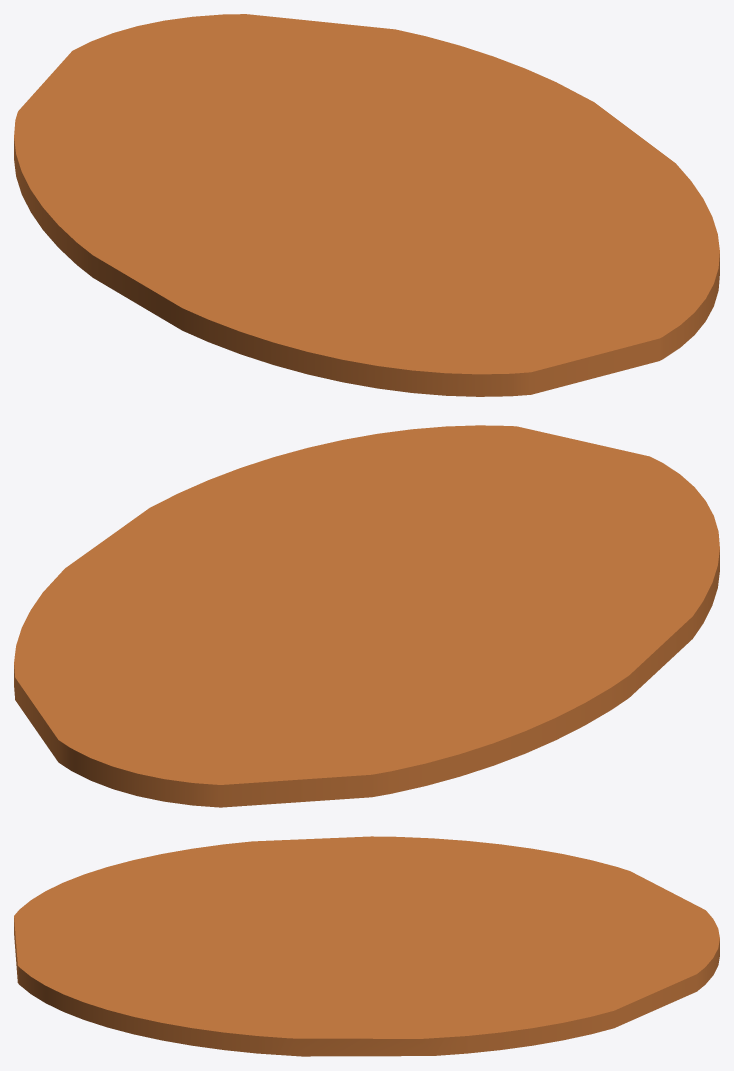
Rendered from ceilingGlass.fbx.
3 renders of one model, top to bottom at view 1: azimuth 30°, elevation 25°; view 2: azimuth 150°, elevation 25°; view 3: azimuth 270°, elevation 25°, orthographic. The views are drawn at different scales.
Visible parts, largest first — view 1: FINALv2_ceilingGlass.005; view 2: FINALv2_ceilingGlass.005; view 3: FINALv2_ceilingGlass.005.
Boxes of the visible parts, x1,y1,x2,y2 form: FINALv2_ceilingGlass.005: (14,14,719,396); FINALv2_ceilingGlass.005: (14,425,719,807); FINALv2_ceilingGlass.005: (14,836,719,1056).
Bounding box in the file's own units: 1958 × 79.32 × 2884.
